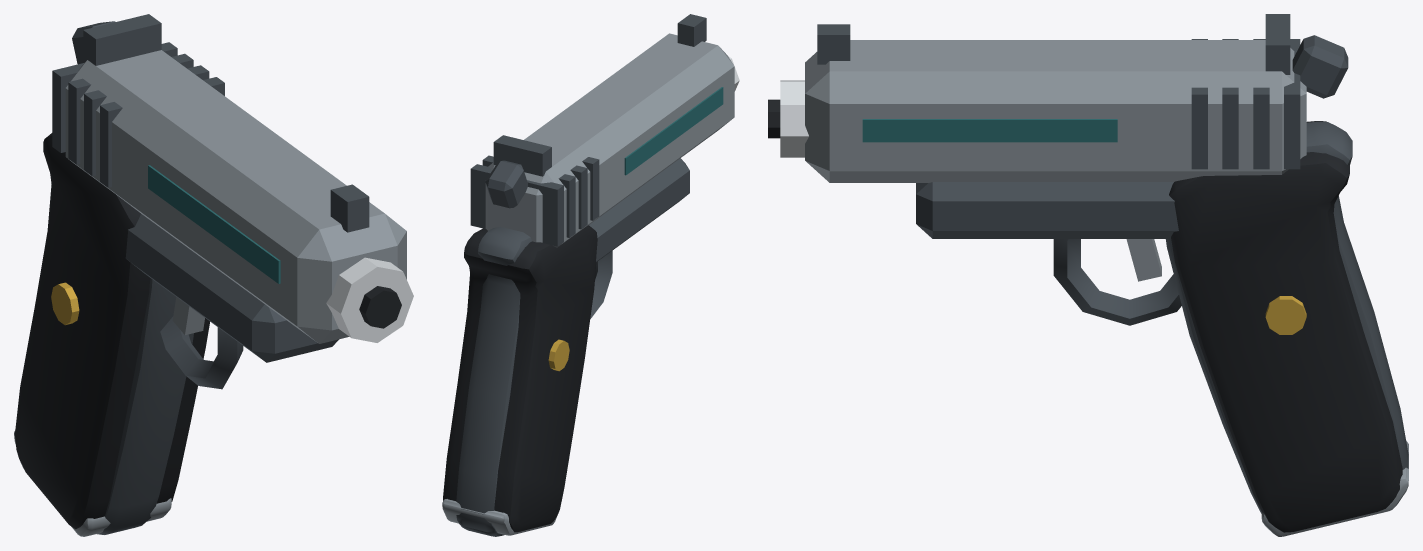
Rendered from Weapon_PocketPistol.fbx.
The picture shows the model from 3 angles, left to right: view 1: azimuth 30°, elevation 25°; view 2: azimuth 150°, elevation 25°; view 3: azimuth 270°, elevation 25°; orthographic projection. The views are drawn at different scales.
Visible parts, largest first — view 1: Pistol; view 2: Pistol; view 3: Pistol.
Boxes of the visible parts, left/top/right/bottom form: Pistol: left=14, top=14, right=413, bottom=536; Pistol: left=442, top=14, right=739, bottom=536; Pistol: left=768, top=14, right=1408, bottom=536.
Bounding box in the file's own units: 0.32 × 1.33 × 1.56.
